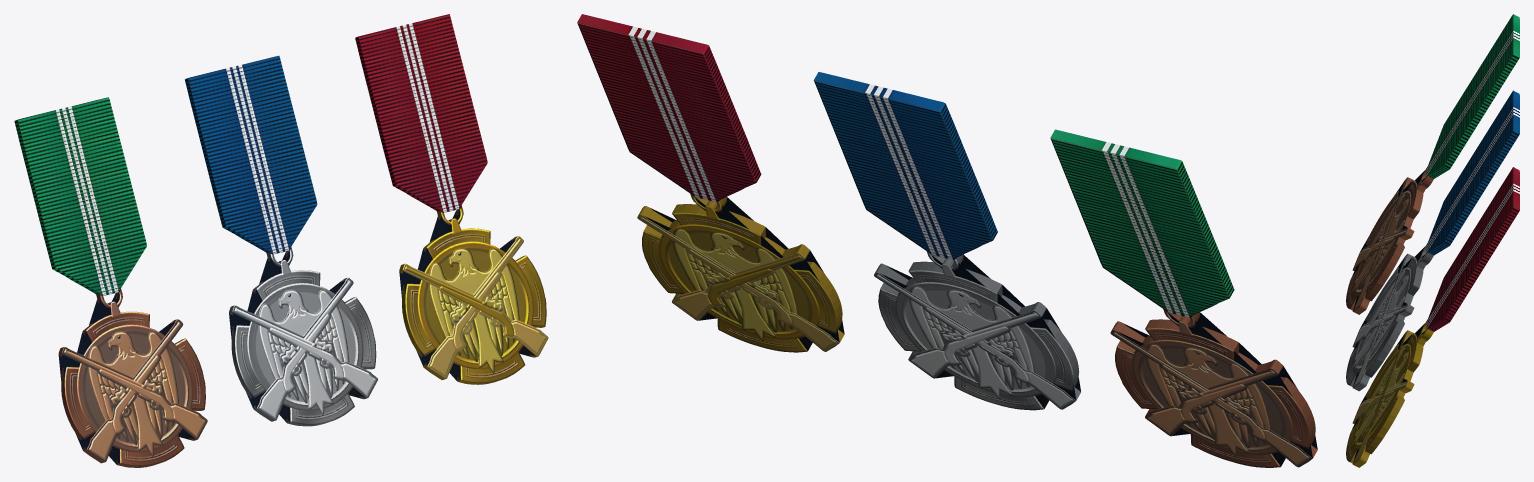
File: Marksman Medals AC7.fbx
3 views of the same model, side by side, from view 1: azimuth 30°, elevation 25°; view 2: azimuth 150°, elevation 25°; view 3: azimuth 270°, elevation 25° (orthographic). The views are drawn at different scales.
Visible parts, largest first — view 1: Gold Marksman, Silver Marksman, Bronze Marksman; view 2: Gold Marksman, Bronze Marksman, Silver Marksman; view 3: Silver Marksman, Bronze Marksman, Gold Marksman.
Boxes of the visible parts, box(x1,y1,x2,y2) form: Gold Marksman: box(355, 14, 548, 384); Silver Marksman: box(185, 55, 377, 426); Bronze Marksman: box(14, 97, 207, 467); Gold Marksman: box(577, 14, 844, 352); Bronze Marksman: box(1050, 129, 1317, 467); Silver Marksman: box(813, 72, 1080, 410); Silver Marksman: box(1346, 90, 1519, 391); Bronze Marksman: box(1346, 14, 1519, 314); Gold Marksman: box(1346, 167, 1519, 467).
Bounding box in the file's own units: 140 × 82.44 × 48.02.
Materials: 3 (3 with a texture image).
